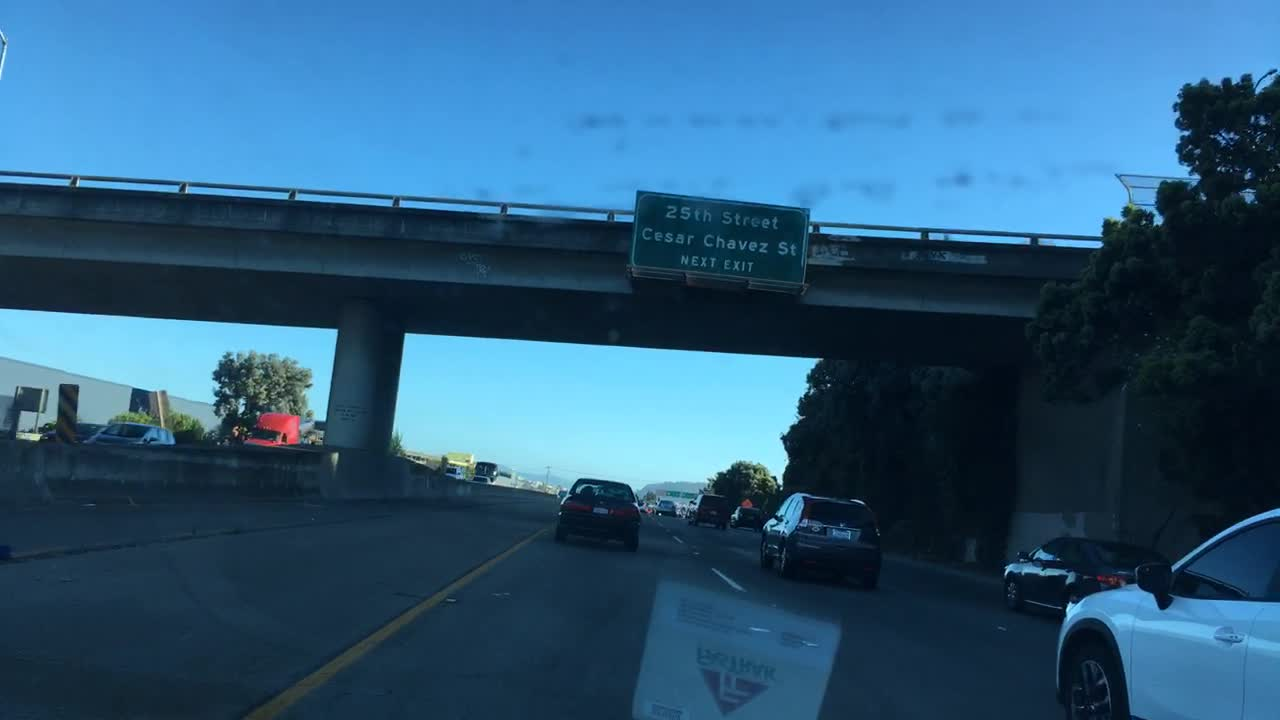bus: (473, 461, 514, 484), (441, 465, 465, 477)
car: (1049, 504, 1278, 718), (1001, 533, 1170, 621), (757, 489, 888, 588), (554, 477, 641, 553), (85, 421, 176, 450), (686, 491, 731, 530), (30, 420, 102, 441), (731, 507, 766, 530), (682, 499, 700, 517), (467, 475, 494, 486), (671, 503, 687, 517), (638, 500, 648, 511)
traffic sign: (629, 189, 809, 289), (681, 490, 697, 500), (741, 495, 753, 507), (664, 489, 680, 498)
truck: (241, 411, 317, 448)
